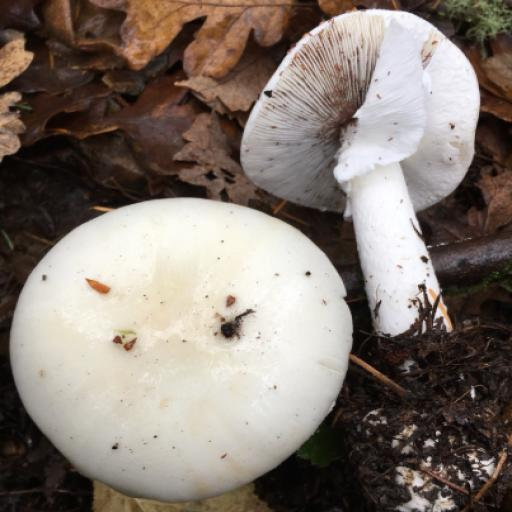mushroom: (18, 200, 360, 507), (254, 10, 486, 345)
